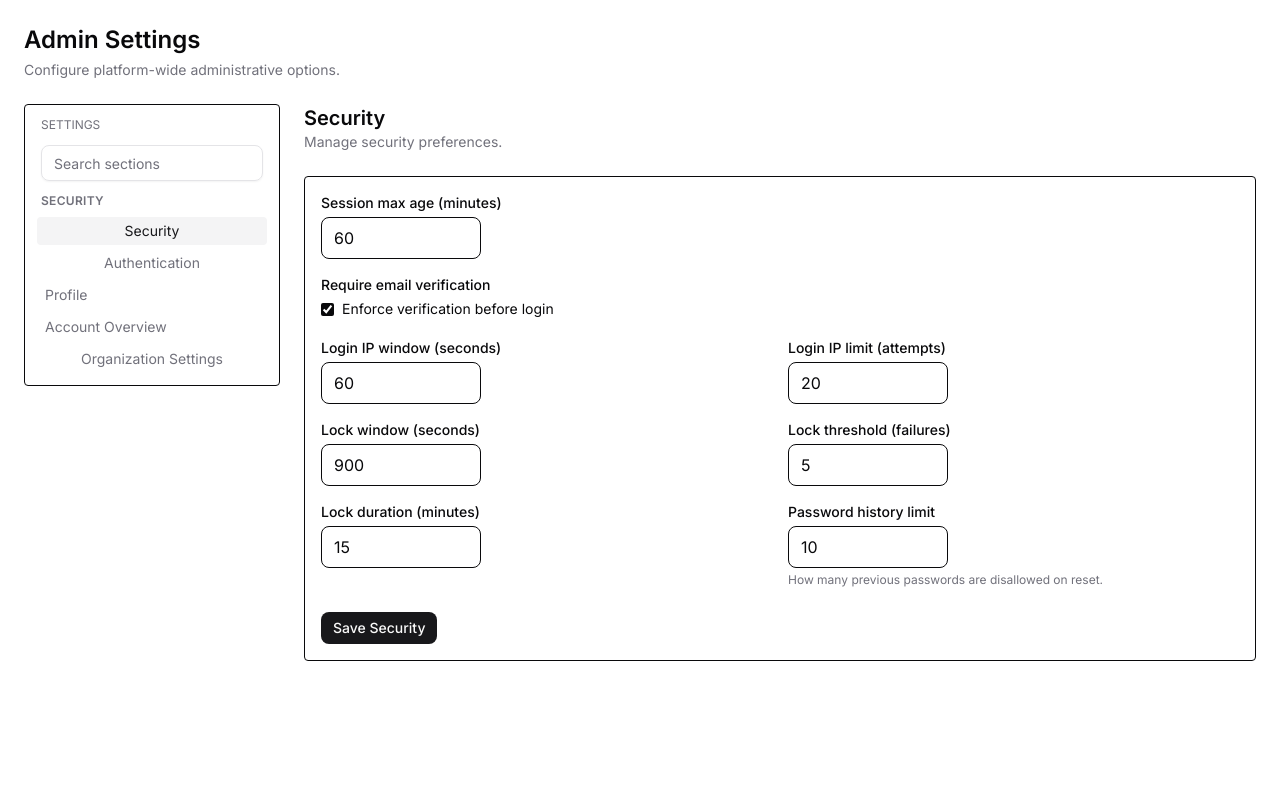
Test case: AdminSettingsPage › keeps headings aligned with the selected nav item even when categories repeat
Click the button "Organization Settings": (152, 359) left=37, top=345, right=267, bottom=373
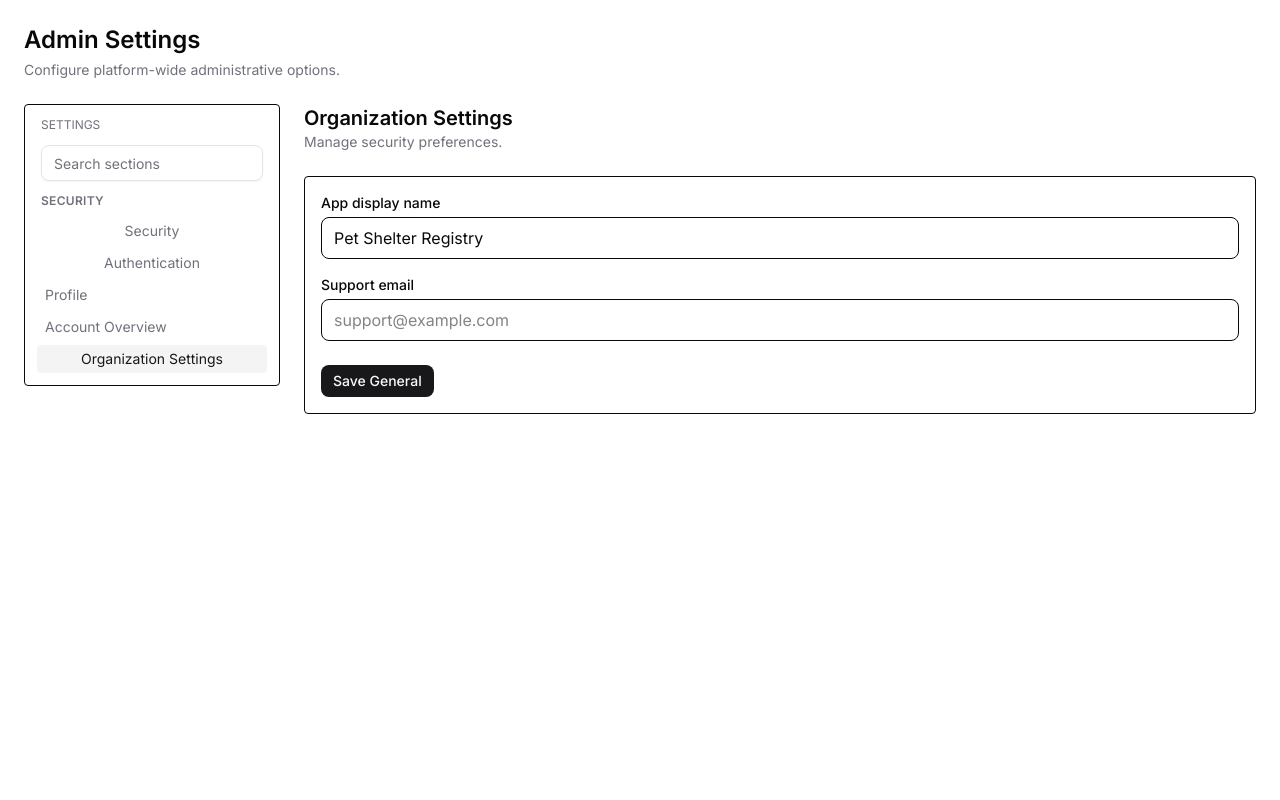
Check: the heading "Organization Settings" is shown, box left=304, top=106, right=513, bottom=130
